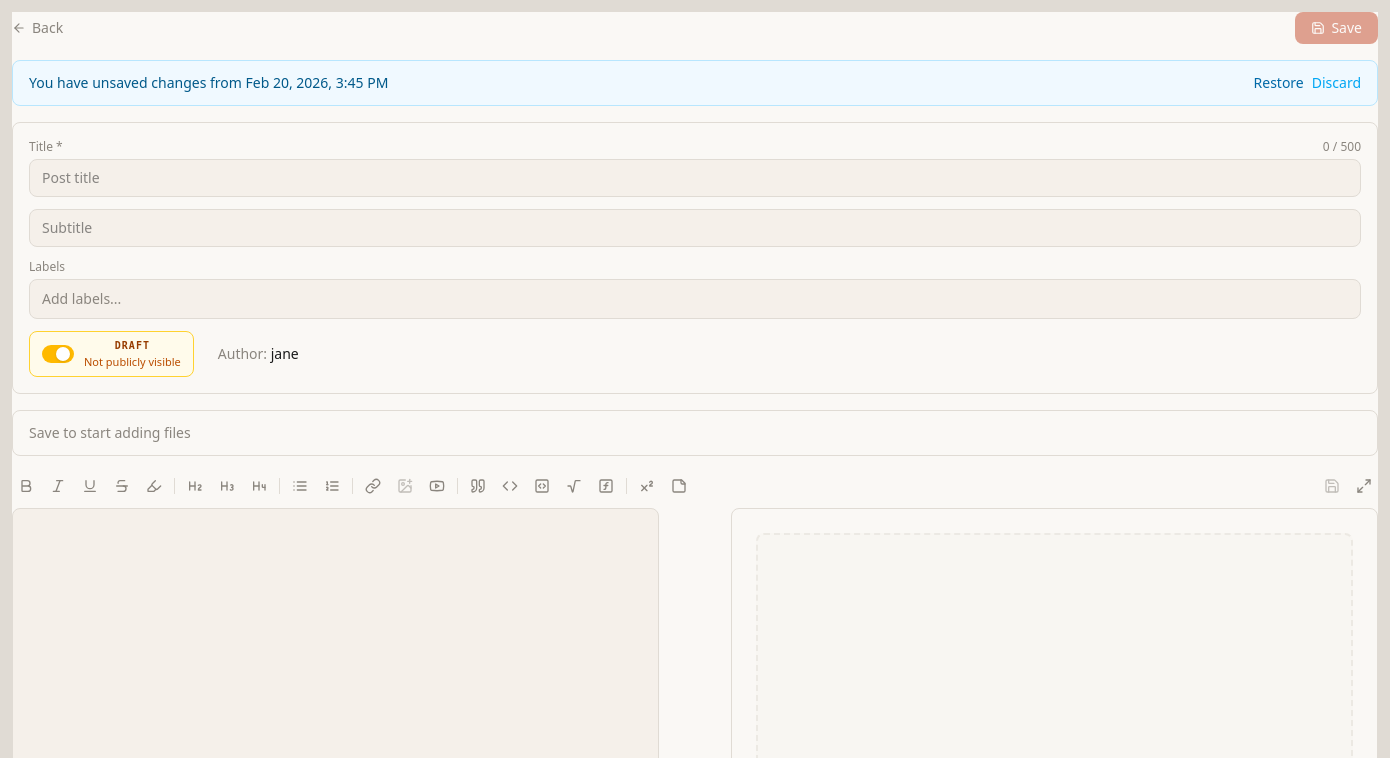
Scenario: EditorPage › restores draft content when Restore is clicked
Click the button "Restore". click: [1279, 83]
box: [1254,73,1304,93]
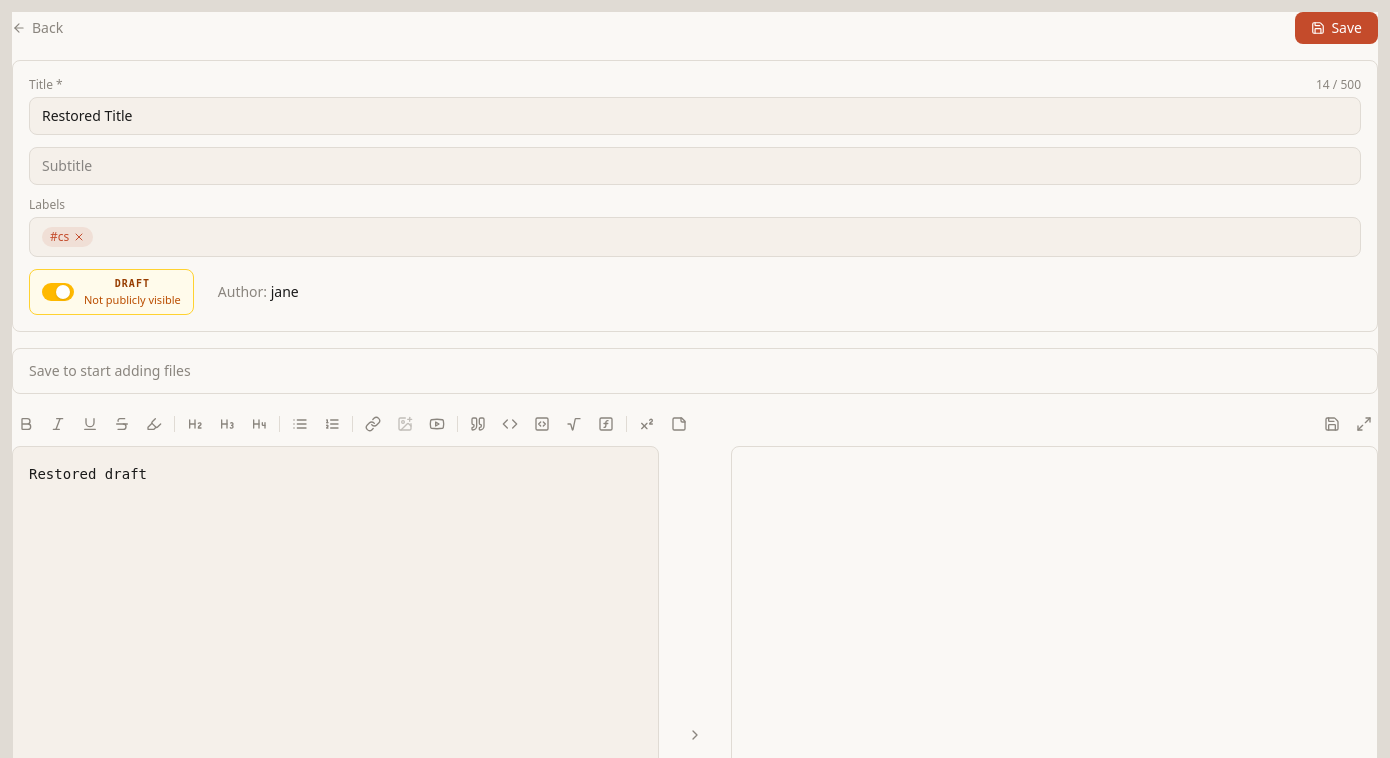
Result: the text "unsaved changes" is gone
Result: the field labelled "Title *" holds "Restored Title" at [29,97,1361,135]
